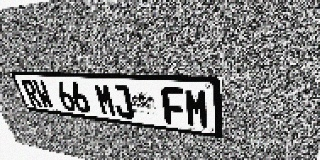6: (67, 82, 92, 114), (54, 81, 77, 112)
F: (160, 87, 186, 126)
J: (110, 84, 135, 119)
M: (184, 88, 210, 129), (93, 83, 118, 117)
R: (20, 79, 43, 108)
W: (32, 80, 55, 109)
